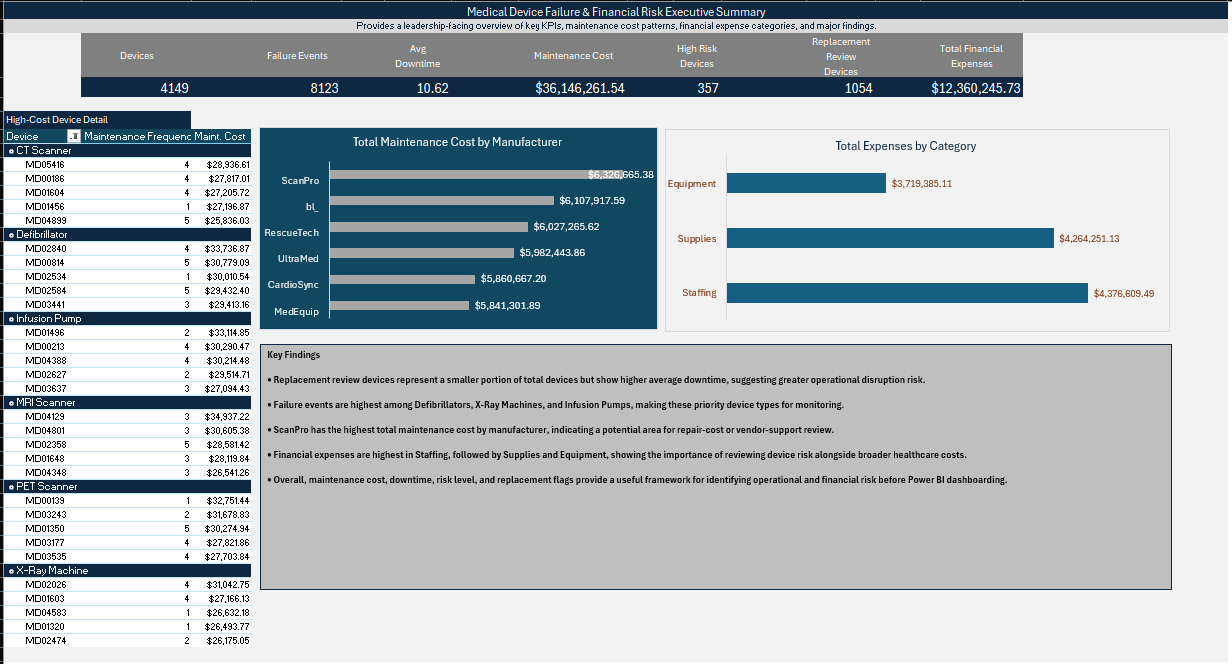

The page's visual inventory and layout, read from the dashboard file:
{"tool":"powerbi","page":{"name":"Executive Overview","canvas":[1280,720],"ordinal":0},"visuals":[{"type":"cardVisual","fields":{"Data":["Measures Table.Total Failure Events"]},"box":[155.4,65.4,155.4,114.5],"z":0},{"type":"cardVisual","fields":{"Data":["Measures Table.Top Expense Category"]},"box":[1086.8,66.5,194,114.5],"z":1000},{"type":"cardVisual","fields":{"Data":["Table.Average Downtime Hours"]},"box":[310.8,65.4,155.4,114.5],"z":2000},{"type":"cardVisual","fields":{"Data":["Measures Table.Total Expense Display"]},"box":[931.4,64.4,155.4,115.5],"z":3000},{"type":"cardVisual","fields":{"Data":["Measures Table.Total Devices"]},"box":[0,66.2,155.1,116.1],"z":4000},{"type":"cardVisual","fields":{"Data":["Table.Devices for Replacement Review"]},"box":[776.2,64.4,155.1,114.3],"z":5000},{"type":"cardVisual","fields":{"Data":["Measures Table.Maintenance Cost Display"]},"box":[466.1,63.5,154.2,115.2],"z":6000},{"type":"textbox","title":"Medical Device Failure & Healthcare Financial Risk Dashboard","box":[0,2.9,1280,62.7],"z":7000},{"type":"cardVisual","fields":{"Data":["Measures Table.High Risk Devices"]},"box":[620.3,64.4,156,114.3],"z":8000},{"type":"clusteredBarChart","title":"Total Failure Events by Device Type","fields":{"Category":["medical_device_failure_cleaned.device_type"],"Y":["Measures Table.Total Failure Events"]},"box":[32.6,469.7,388.1,242.1],"z":9000},{"type":"clusteredBarChart","title":"Total Maintenance Cost by Manufacturer","fields":{"Y":["Measures Table.Total Maintenance Cost"],"Category":["medical_device_failure_cleaned.manufacturer"]},"box":[32.6,193.1,388.1,252.1],"z":10000},{"type":"clusteredBarChart","title":"Devices by Operational Risk Level","fields":{"Category":["medical_device_failure_cleaned.operational_risk_level"],"Y":["Measures Table.Total Devices"]},"box":[445.2,284.7,473.4,253],"z":11000},{"type":"actionButton","box":[1196.2,9.2,78.7,48.1],"z":12000},{"type":"slicer","title":"Device Type","fields":{"Values":["medical_device_failure_cleaned.device_type"]},"box":[936.7,199.5,149.6,59.8],"z":13000},{"type":"slicer","title":"Manufacturer","fields":{"Values":["medical_device_failure_cleaned.manufacturer"]},"box":[1108.1,199.5,149.6,59.8],"z":14000},{"type":"slicer","title":"Maintenance Severity","fields":{"Values":["medical_device_failure_cleaned.maintenance_severity"]},"box":[769,199.5,149.6,59.8],"z":15000},{"type":"textbox","title":"Replacement Review Summary","box":[938.5,284.7,319.2,252.1],"z":16000},{"type":"slicer","title":"Risk Level","fields":{"Values":["medical_device_failure_cleaned.operational_risk_level"]},"box":[595.8,198.6,149.6,59.8],"z":17000},{"type":"slicer","title":"Replacement Review","fields":{"Values":["medical_device_failure_cleaned.replacement_review_flag"]},"box":[434.4,198.6,150.5,60.8],"z":18000},{"type":"textbox","title":"Key Insight","box":[445.2,545.9,829.7,146],"z":19000}]}

Visuals, with their boxes on the page's 1280x720 design canvas (x1, y1, x2, y2). These are canvas units, not pixel positions in the 1232x664 screenshot, which may show the page scaled, cropped or inside an application window:
cardVisual - Measures Table.Total Failure Events: box=[155, 65, 311, 180]
cardVisual - Measures Table.Top Expense Category: box=[1087, 66, 1281, 181]
cardVisual - Table.Average Downtime Hours: box=[311, 65, 466, 180]
cardVisual - Measures Table.Total Expense Display: box=[931, 64, 1087, 180]
cardVisual - Measures Table.Total Devices: box=[0, 66, 155, 182]
cardVisual - Table.Devices for Replacement Review: box=[776, 64, 931, 179]
cardVisual - Measures Table.Maintenance Cost Display: box=[466, 64, 620, 179]
"Medical Device Failure & Healthcare Financial Risk Dashboard" textbox: box=[0, 3, 1280, 66]
cardVisual - Measures Table.High Risk Devices: box=[620, 64, 776, 179]
"Total Failure Events by Device Type" clusteredBarChart: box=[33, 470, 421, 712]
"Total Maintenance Cost by Manufacturer" clusteredBarChart: box=[33, 193, 421, 445]
"Devices by Operational Risk Level" clusteredBarChart: box=[445, 285, 919, 538]
actionButton: box=[1196, 9, 1275, 57]
"Device Type" slicer: box=[937, 200, 1086, 259]
"Manufacturer" slicer: box=[1108, 200, 1258, 259]
"Maintenance Severity" slicer: box=[769, 200, 919, 259]
"Replacement Review Summary" textbox: box=[938, 285, 1258, 537]
"Risk Level" slicer: box=[596, 199, 745, 258]
"Replacement Review" slicer: box=[434, 199, 585, 259]
"Key Insight" textbox: box=[445, 546, 1275, 692]
